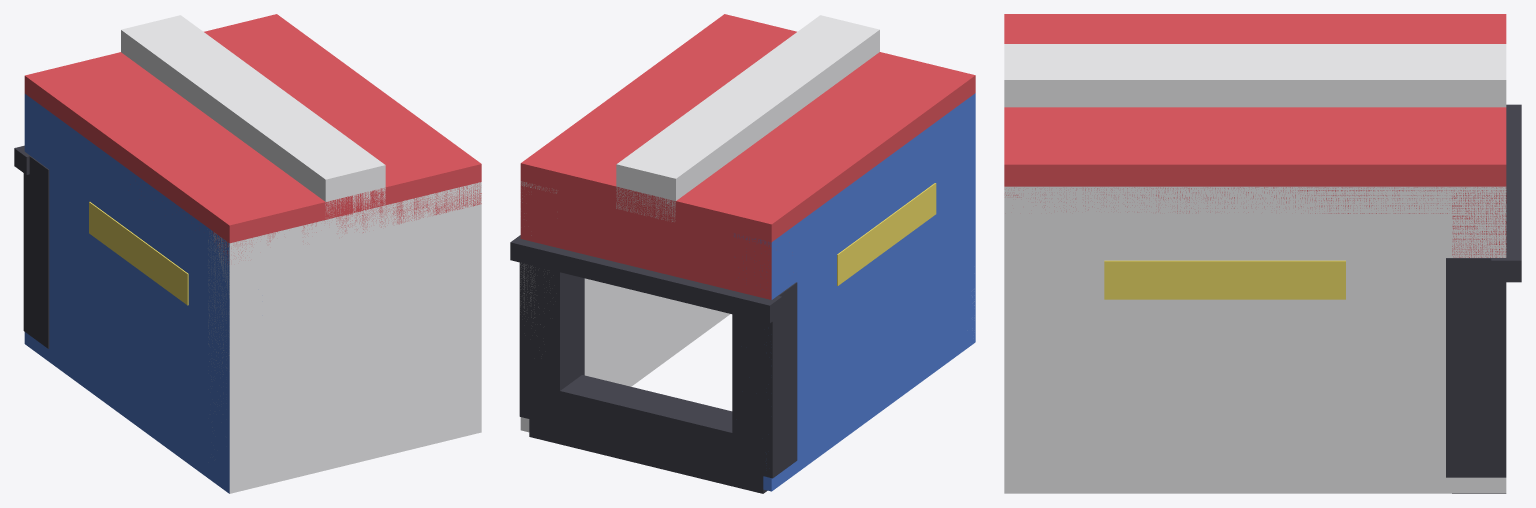
File: capacete_piloto.glb
3 views of the same model, side by side, from view 1: azimuth 30°, elevation 25°; view 2: azimuth 150°, elevation 25°; view 3: azimuth 270°, elevation 25° (orthographic). The views are drawn at different scales.
Visible parts, largest first — view 1: capacete_piloto; view 2: capacete_piloto; view 3: capacete_piloto.
Boxes of the visible parts, <box> form: capacete_piloto: <box>14,14,481,493</box>; capacete_piloto: <box>510,14,975,493</box>; capacete_piloto: <box>1004,14,1521,493</box>.
Bounding box in the file's own units: 0.61 × 0.66 × 0.855.
